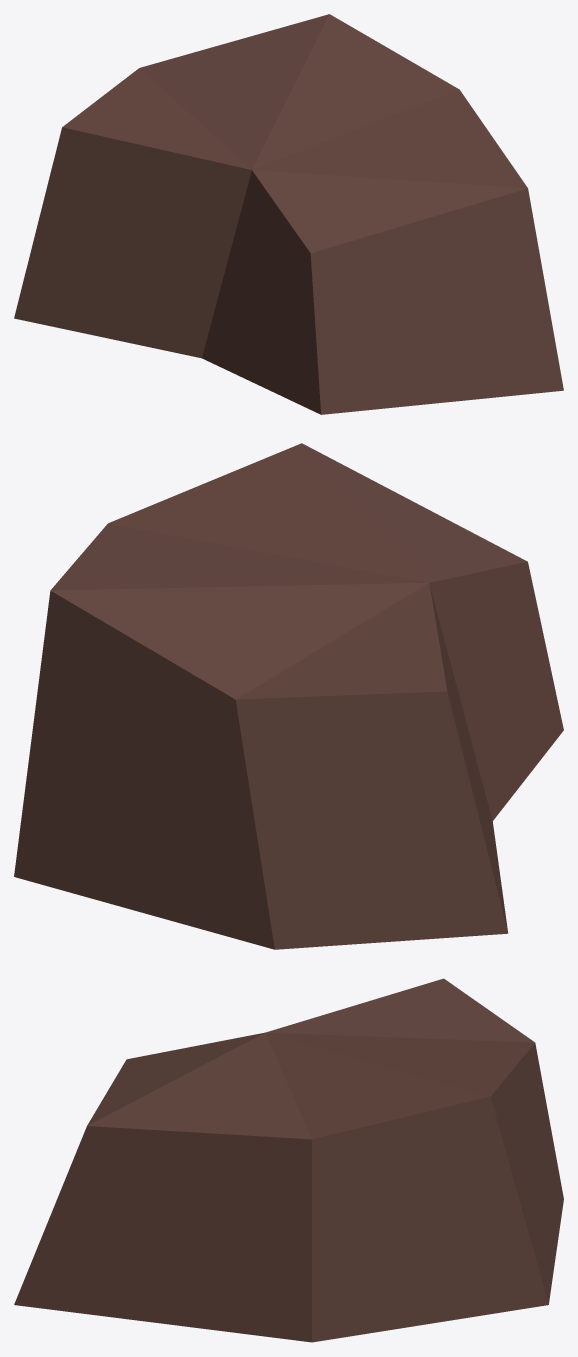
The model's file is FlatRock-C10.fbx.
3 views of the same model, one above another, from view 1: azimuth 30°, elevation 25°; view 2: azimuth 150°, elevation 25°; view 3: azimuth 270°, elevation 25° (orthographic). The views are drawn at different scales.
Parts seen in each view (by area): view 1: FlatRock-C10; view 2: FlatRock-C10; view 3: FlatRock-C10.
Boxes of the visible parts, box(x1,y1,x2,y2) form: FlatRock-C10: box(14, 14, 563, 414); FlatRock-C10: box(14, 443, 563, 949); FlatRock-C10: box(14, 978, 563, 1342).
Size of the model in its own units: 116 by 54.84 by 131.
